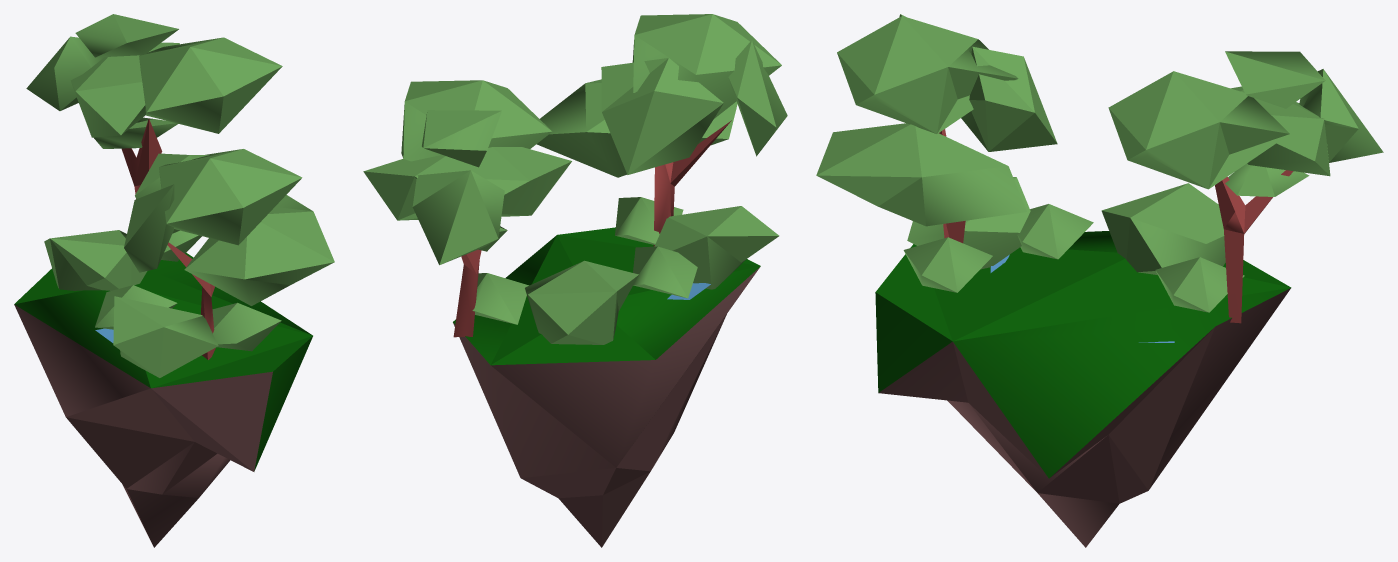
Rendered from floating_island_low.obj.
The picture shows the model from 3 angles, left to right: view 1: azimuth 30°, elevation 25°; view 2: azimuth 150°, elevation 25°; view 3: azimuth 270°, elevation 25°; orthographic projection. The views are drawn at different scales.
Parts seen in each view (by area): view 1: pCube13.001; view 2: pCube13.001; view 3: pCube13.001.
Part boxes in pixels (x1,y1,x2,y2): pCube13.001: (14, 14, 334, 547); pCube13.001: (363, 14, 787, 547); pCube13.001: (816, 14, 1383, 547).
Bounding box in the file's own units: 0.116 × 0.1939 × 0.1924.
